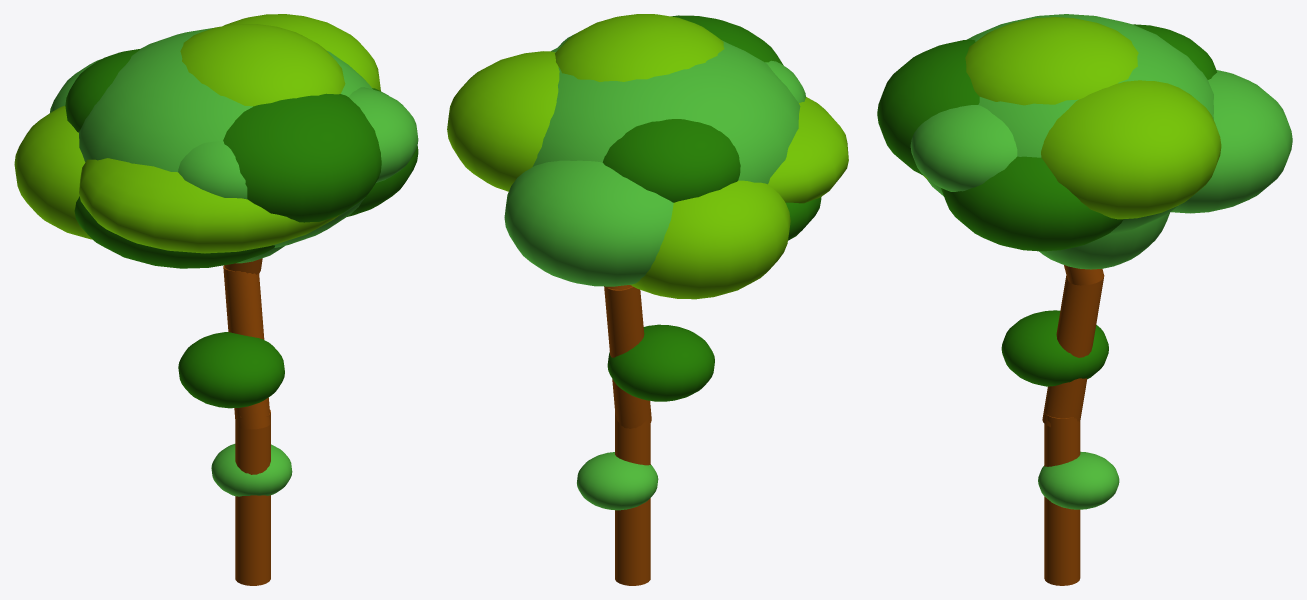
File: utitree.fbx
3 views of the same model, side by side, from view 1: azimuth 30°, elevation 25°; view 2: azimuth 150°, elevation 25°; view 3: azimuth 270°, elevation 25° (orthographic).
Visible parts, largest first — view 1: pasted__pasted__pasted__pasted__pasted__pSphere1 (×4), pasted__pasted__pasted__pSphere1 (×4), pasted__pasted__pasted__pasted__pSphere1 (×3), pCylinder2, pCylinder1, pasted__pasted__pSphere1, pasted__pasted__pasted__pasted__pasted__pasted__pSphere1; view 2: pasted__pasted__pasted__pSphere1 (×3), pasted__pasted__pasted__pasted__pasted__pSphere1 (×4), pasted__pasted__pSphere1, pasted__pasted__pasted__pasted__pSphere1 (×3), pasted__pasted__pasted__pasted__pasted__pasted__pSphere1, pCylinder2, pCylinder1; view 3: pasted__pasted__pasted__pSphere1 (×5), pasted__pasted__pasted__pasted__pasted__pSphere1 (×2), pasted__pasted__pSphere1, pCylinder2, pCylinder1, pasted__pasted__pasted__pasted__pSphere1, pasted__pasted__pasted__pasted__pasted__pasted__pasted__pSph, pasted__pasted__pasted__pasted__pasted__pasted__pSphere1, pasted__pCylinder1.
Part boxes in pixels (x1,y1,x2,y2): pasted__pasted__pasted__pasted__pasted__pSphere1 (×4): [14, 24, 381, 268]; pasted__pasted__pasted__pSphere1 (×4): [79, 28, 418, 408]; pasted__pasted__pasted__pasted__pSphere1 (×3): [79, 140, 340, 496]; pCylinder2: [235, 409, 270, 585]; pCylinder1: [223, 265, 270, 429]; pasted__pasted__pSphere1: [223, 14, 380, 90]; pasted__pasted__pasted__pasted__pasted__pasted__pSphere1: [65, 49, 140, 132]; pasted__pasted__pasted__pSphere1 (×3): [504, 40, 800, 401]; pasted__pasted__pasted__pasted__pasted__pSphere1 (×4): [555, 14, 821, 299]; pasted__pasted__pSphere1: [447, 51, 559, 191]; pasted__pasted__pasted__pasted__pSphere1 (×3): [577, 60, 848, 510]; pasted__pasted__pasted__pasted__pasted__pasted__pSphere1: [602, 119, 740, 202]; pCylinder2: [615, 412, 650, 585]; pCylinder1: [604, 286, 651, 428]; pasted__pasted__pasted__pSphere1 (×5): [910, 14, 1292, 386]; pasted__pasted__pasted__pasted__pasted__pSphere1 (×2): [877, 17, 1138, 175]; pasted__pasted__pSphere1: [1041, 80, 1221, 219]; pCylinder2: [1044, 414, 1080, 585]; pCylinder1: [1042, 275, 1103, 427]; pasted__pasted__pasted__pasted__pSphere1: [1038, 451, 1119, 509]; pasted__pasted__pasted__pasted__pasted__pasted__pasted__pSph: [1039, 212, 1169, 269]; pasted__pasted__pasted__pasted__pasted__pasted__pSphere1: [1133, 24, 1216, 79]; pasted__pCylinder1: [1064, 265, 1104, 285].
Size of the model in its own units: 8.9 by 14.13 by 9.77.
